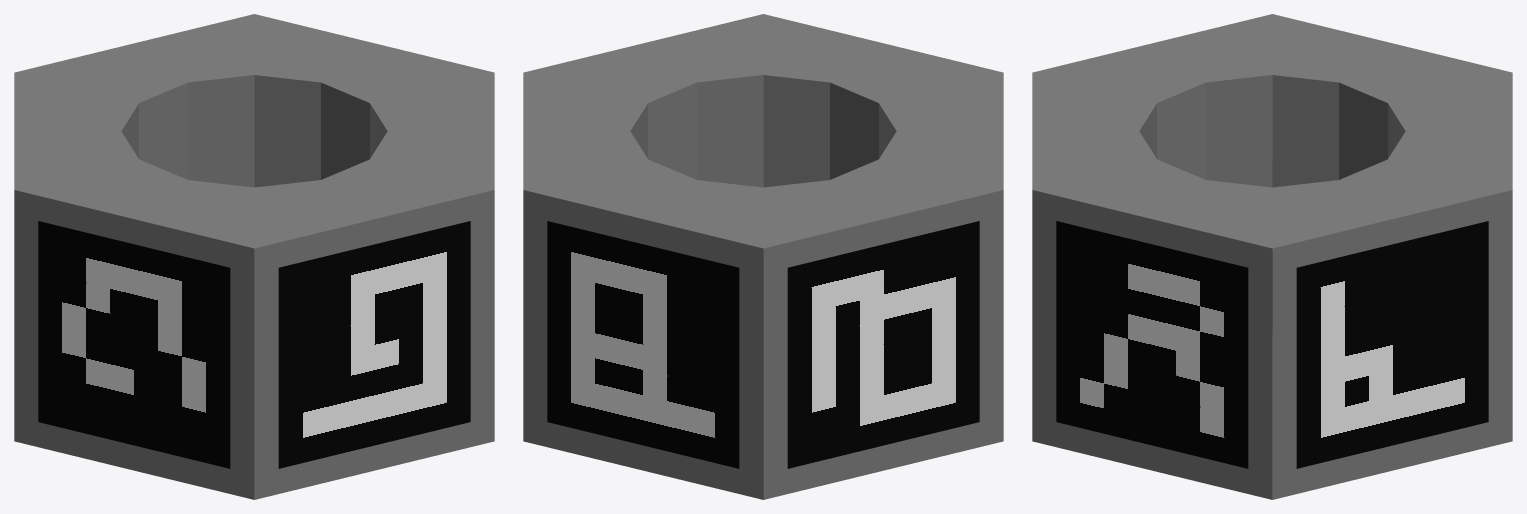
The model's file is Mesh_Resonator_Blocking_Bigger.fbx.
The picture shows the model from 3 angles, left to right: view 1: azimuth 30°, elevation 25°; view 2: azimuth 150°, elevation 25°; view 3: azimuth 270°, elevation 25°; orthographic projection.
Parts seen in each view (by area): view 1: Cylinder; view 2: Cylinder; view 3: Cylinder.
Part boxes in pixels (box(x1,y1,x2,y2)): Cylinder: box(14, 14, 494, 499); Cylinder: box(523, 14, 1003, 499); Cylinder: box(1032, 14, 1512, 499).
Bounding box in the file's own units: 125 × 62.5 × 108.
